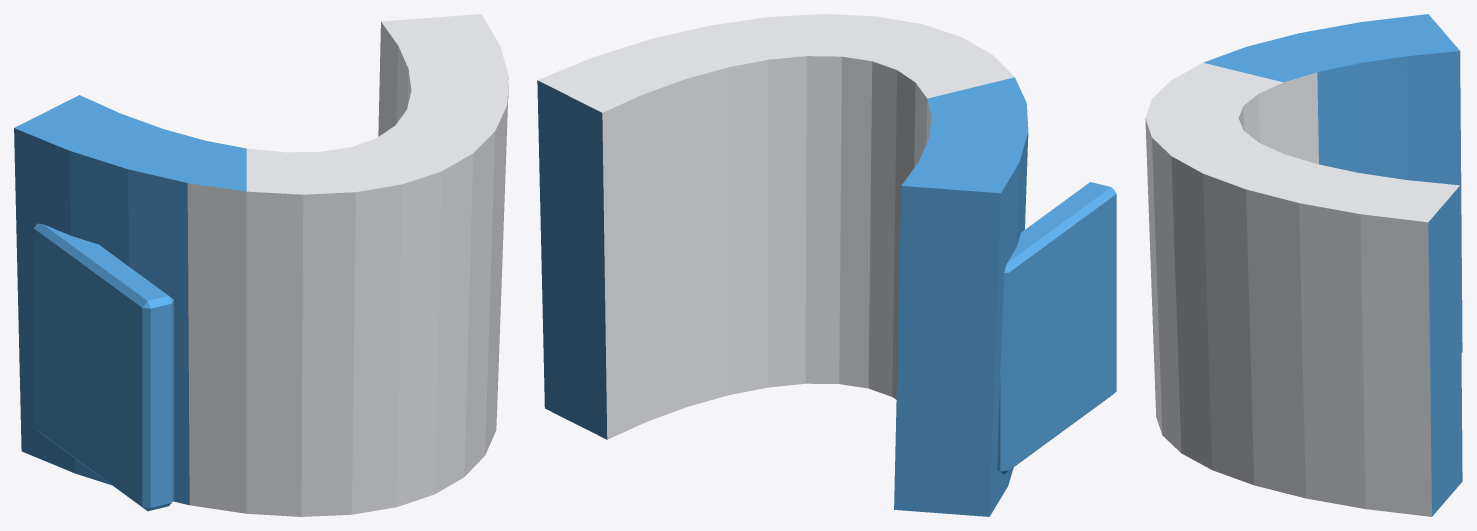
Rendered from right_shoulder__sleek_cap.glb.
3 renders of one model, left to right at view 1: azimuth 30°, elevation 25°; view 2: azimuth 150°, elevation 25°; view 3: azimuth 270°, elevation 25°, orthographic. The views are drawn at different scales.
Parts seen in each view (by area): view 1: armor_right_shoulder__sleek_cap_v001; view 2: armor_right_shoulder__sleek_cap_v001; view 3: armor_right_shoulder__sleek_cap_v001.
Part boxes in pixels (box(x1,y1,x2,y2)): armor_right_shoulder__sleek_cap_v001: box(14, 14, 508, 516); armor_right_shoulder__sleek_cap_v001: box(537, 14, 1116, 516); armor_right_shoulder__sleek_cap_v001: box(1145, 14, 1462, 516).
Bounding box in the file's own units: 0.1764 × 0.118 × 0.1135.
